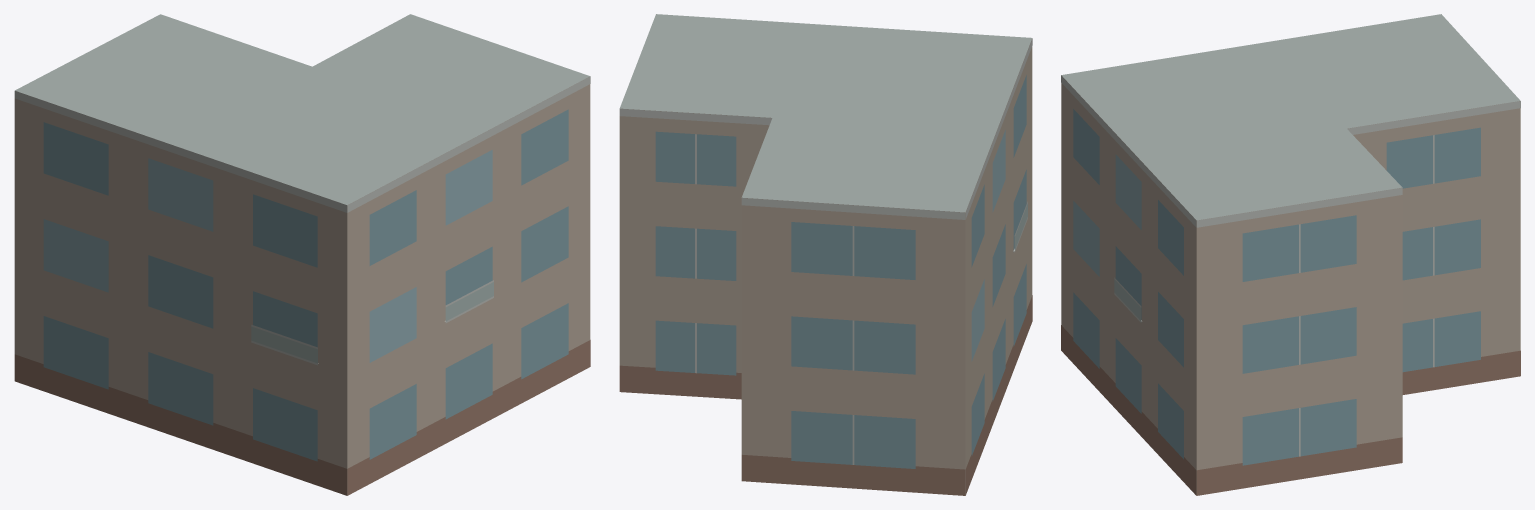
File: survey-upis-32871553.glb
3 views of the same model, side by side, from view 1: azimuth 30°, elevation 25°; view 2: azimuth 150°, elevation 25°; view 3: azimuth 270°, elevation 25° (orthographic). The views are drawn at different scales.
Visible parts, largest first — view 1: survey-upis-32871553.tmp; view 2: survey-upis-32871553.tmp; view 3: survey-upis-32871553.tmp.
Part boxes in pixels (bbox=[...]): survey-upis-32871553.tmp: bbox=[14, 14, 590, 495]; survey-upis-32871553.tmp: bbox=[619, 14, 1032, 495]; survey-upis-32871553.tmp: bbox=[1061, 14, 1520, 495].
Bounding box in the file's own units: 14.72 × 9.15 × 13.85.
